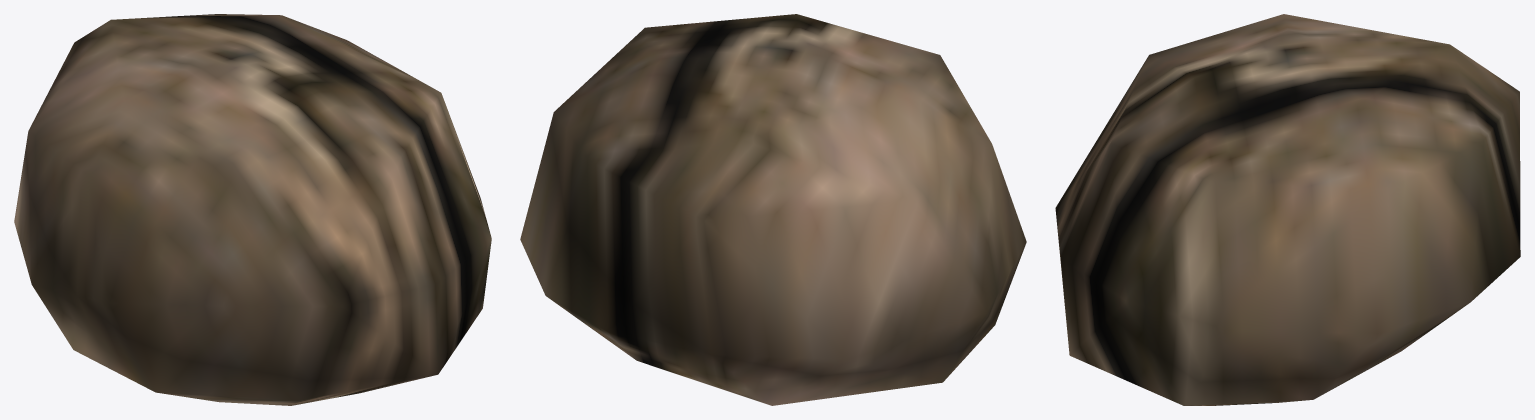
File: TROLL_THROWING_ROCK.obj
The picture shows the model from 3 angles, left to right: view 1: azimuth 30°, elevation 25°; view 2: azimuth 150°, elevation 25°; view 3: azimuth 270°, elevation 25°; orthographic projection. The views are drawn at different scales.
Parts seen in each view (by area): view 1: GeoSphere03; view 2: GeoSphere03; view 3: GeoSphere03.
Part boxes in pixels (bbox=[...]): GeoSphere03: bbox=[14, 14, 491, 405]; GeoSphere03: bbox=[520, 14, 1026, 405]; GeoSphere03: bbox=[1055, 14, 1520, 405].
Bounding box in the file's own units: 31.51 × 23.09 × 31.04.
